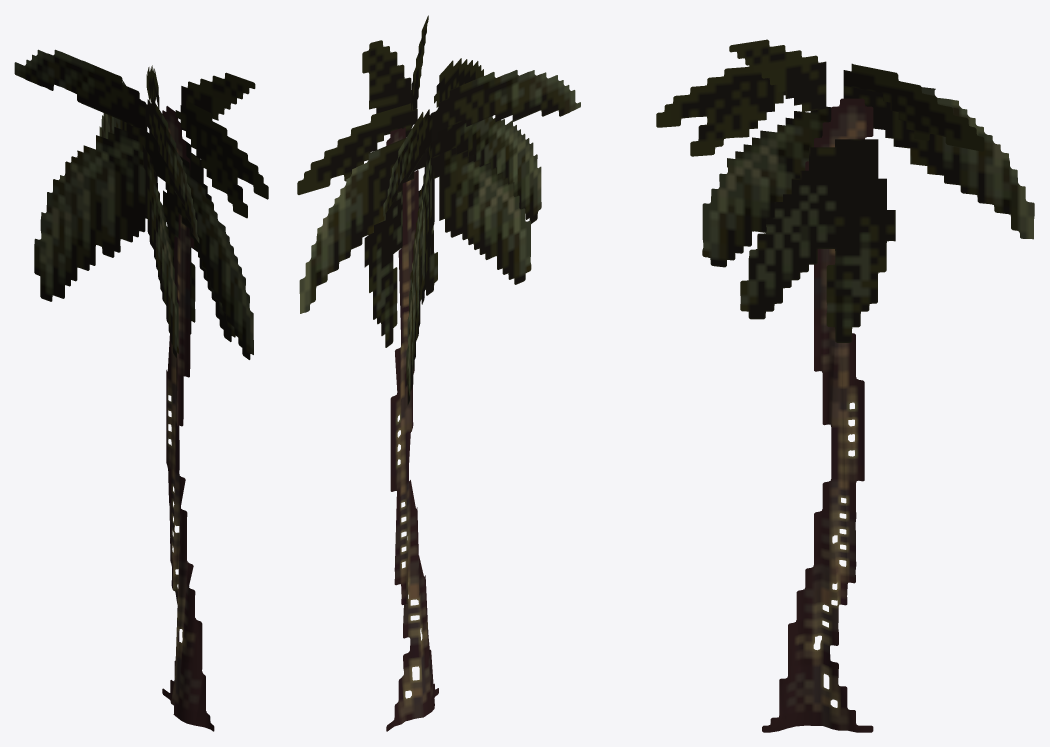
File: ObjMD_Desert_PalmTree_A_tall.FBX
3 views of the same model, side by side, from view 1: azimuth 30°, elevation 25°; view 2: azimuth 150°, elevation 25°; view 3: azimuth 270°, elevation 25° (orthographic). The views are drawn at different scales.
Visible parts, largest first — view 1: ObjMD_Desert_PalmTree_A_tall; view 2: ObjMD_Desert_PalmTree_A_tall; view 3: ObjMD_Desert_PalmTree_A_tall.
Boxes of the visible parts, x1=… form: ObjMD_Desert_PalmTree_A_tall: x1=14, y1=49, x2=268, y2=731; ObjMD_Desert_PalmTree_A_tall: x1=297, y1=15, x2=580, y2=731; ObjMD_Desert_PalmTree_A_tall: x1=656, y1=39, x2=1034, y2=732.
Bounding box in the file's own units: 102 × 578 × 308.
